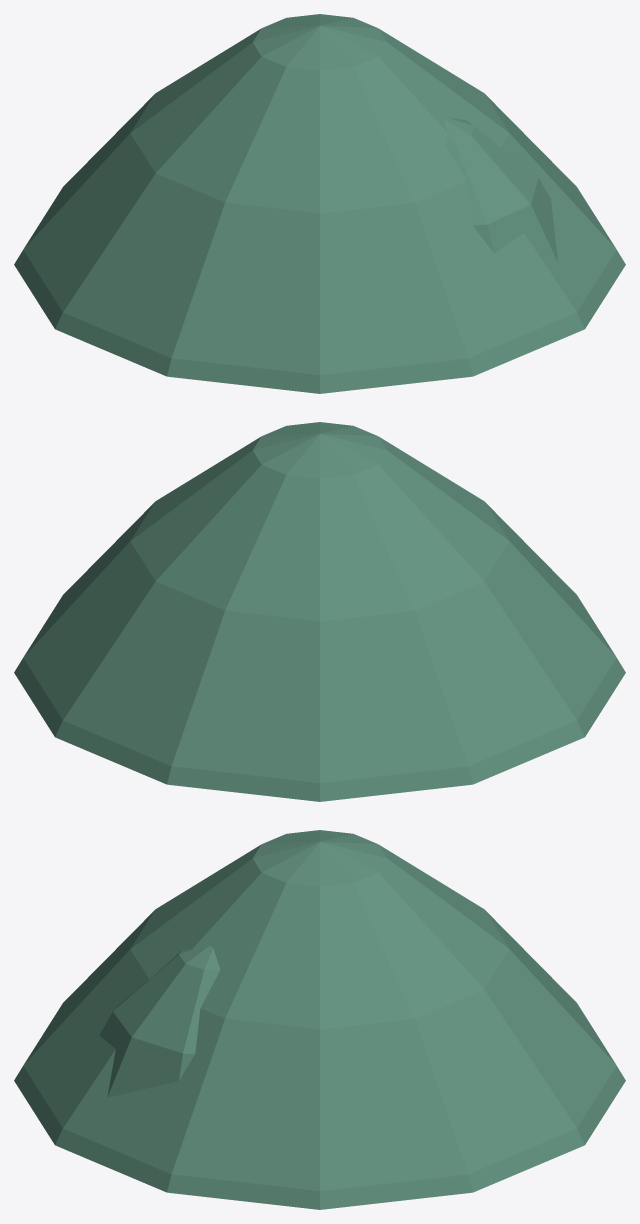
The model's file is pile_cu_a.glb.
3 renders of one model, top to bottom at view 1: azimuth 30°, elevation 25°; view 2: azimuth 150°, elevation 25°; view 3: azimuth 270°, elevation 25°, orthographic.
Parts seen in each view (by area): view 1: pile_cu_a; view 2: pile_cu_a; view 3: pile_cu_a.
Boxes of the visible parts, left/top/right/bottom form: pile_cu_a: left=14, top=14, right=625, bottom=393; pile_cu_a: left=14, top=422, right=625, bottom=801; pile_cu_a: left=14, top=830, right=625, bottom=1209.
Bounding box in the file's own units: 13 × 5.6 × 13.
